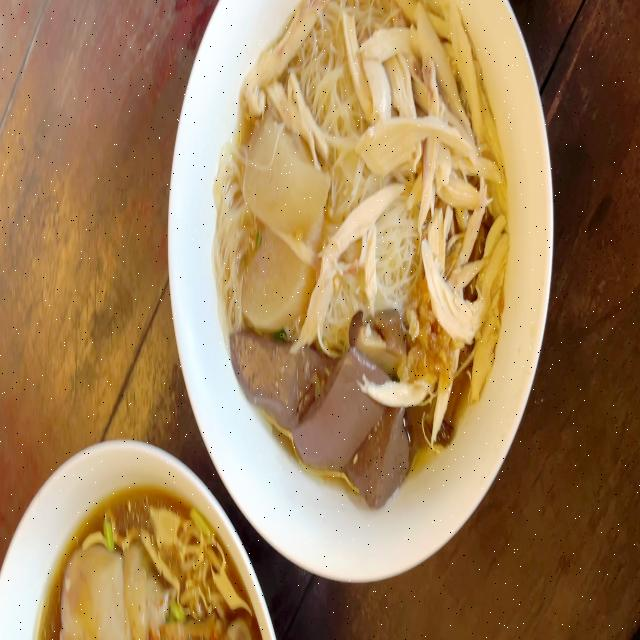boiled_chicken_blood_jelly: (229, 331, 324, 420), (303, 355, 371, 475), (358, 404, 403, 504)
chicken_drumstick: (54, 539, 250, 640)
chicken_shredded: (352, 0, 508, 408), (305, 190, 398, 328), (356, 111, 480, 176), (252, 0, 322, 110), (414, 240, 478, 341), (480, 210, 504, 393), (271, 79, 328, 150), (443, 280, 460, 422), (366, 53, 394, 125), (379, 377, 431, 401), (430, 57, 437, 219), (364, 36, 434, 51)
daikon_radish: (248, 118, 332, 232), (228, 230, 310, 333)
noodle: (209, 3, 511, 487), (42, 483, 260, 640)
